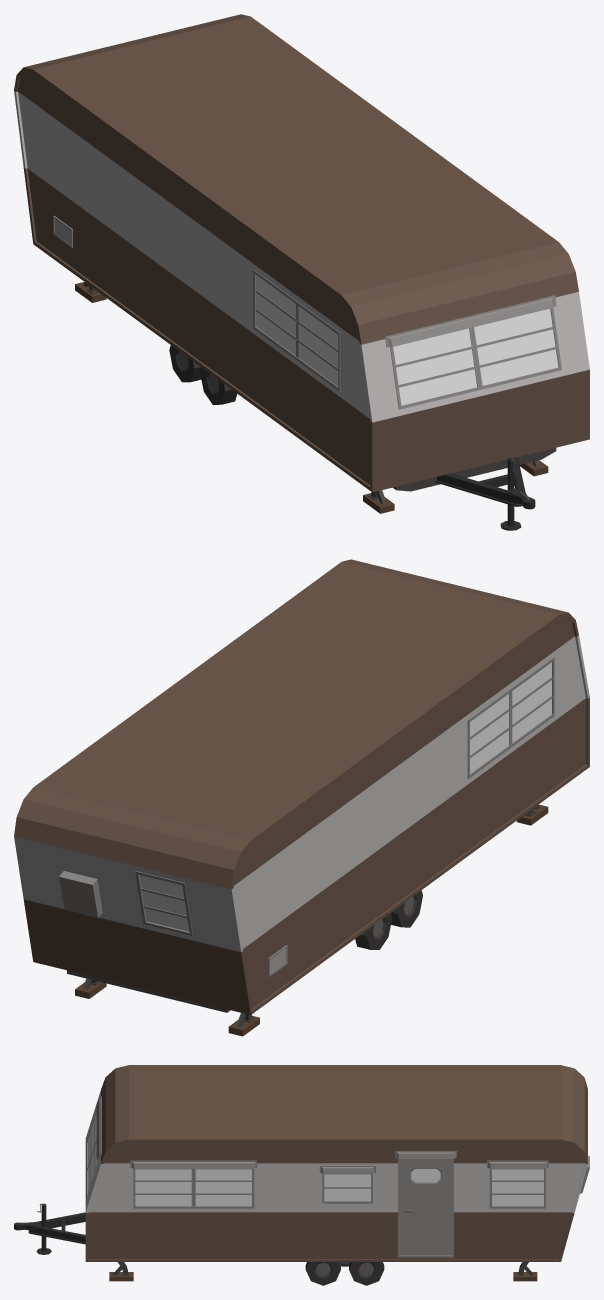
Rendered from SM_Bldg_Desert_MobileHome_03.fbx.
The picture shows the model from 3 angles, top to bottom: view 1: azimuth 30°, elevation 25°; view 2: azimuth 150°, elevation 25°; view 3: azimuth 270°, elevation 25°; orthographic projection. The views are drawn at different scales.
Parts seen in each view (by area): view 1: SM_Bldg_Desert_MobileHome_03, SM_Bldg_Desert_MobileHome_03_Glass; view 2: SM_Bldg_Desert_MobileHome_03, SM_Bldg_Desert_MobileHome_03_Glass; view 3: SM_Bldg_Desert_MobileHome_03, SM_Bldg_Desert_MobileHome_03_Glass, SM_Bldg_Desert_MobileHome_03_Door.
Part boxes in pixels (x1,y1,x2,y2): SM_Bldg_Desert_MobileHome_03: (14,14,589,530); SM_Bldg_Desert_MobileHome_03_Glass: (256,275,558,405); SM_Bldg_Desert_MobileHome_03: (14,559,589,1036); SM_Bldg_Desert_MobileHome_03_Glass: (139,662,551,931); SM_Bldg_Desert_MobileHome_03: (14,1065,589,1285); SM_Bldg_Desert_MobileHome_03_Glass: (87,1115,543,1206); SM_Bldg_Desert_MobileHome_03_Door: (400,1159,451,1254).
Size of the model in its own units: 3.29 by 3.07 by 10.66.
